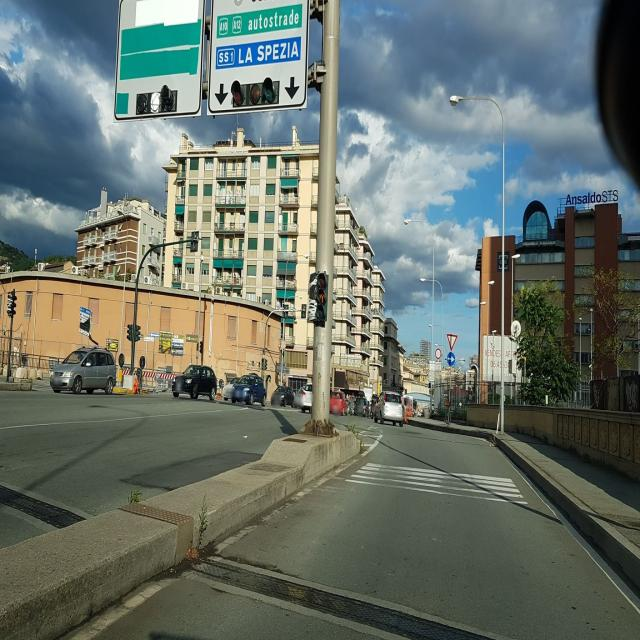car: (50, 349, 118, 394), (172, 364, 218, 402), (232, 373, 267, 408), (376, 390, 404, 427), (273, 385, 294, 409), (349, 396, 369, 418), (330, 393, 348, 416), (300, 382, 313, 413), (222, 378, 237, 403), (366, 396, 380, 420)
